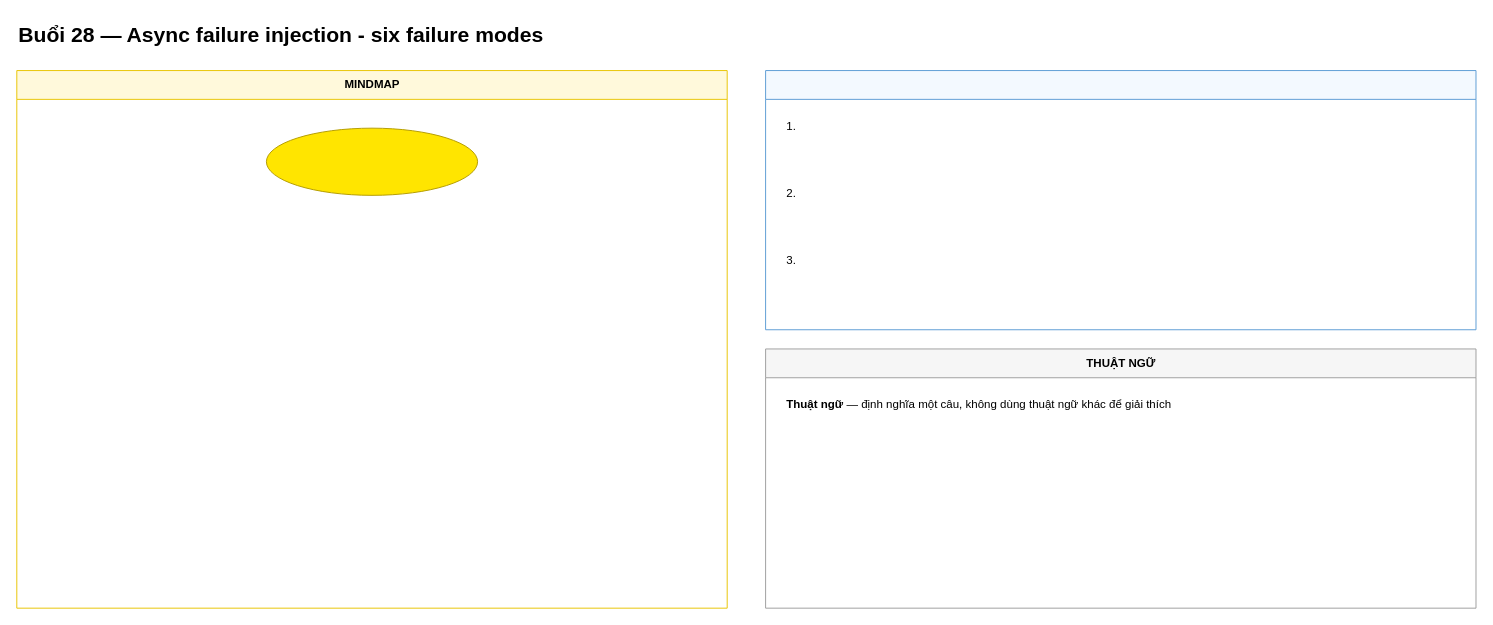
This 1493x625 diagram has some shape labels left out. Each missing label, with the box of its shape:
Async failure injection - six failure modes: (265, 127, 478, 195)
KEY TAKEAWAY — ba điều phải nhớ: (765, 70, 1476, 330)
